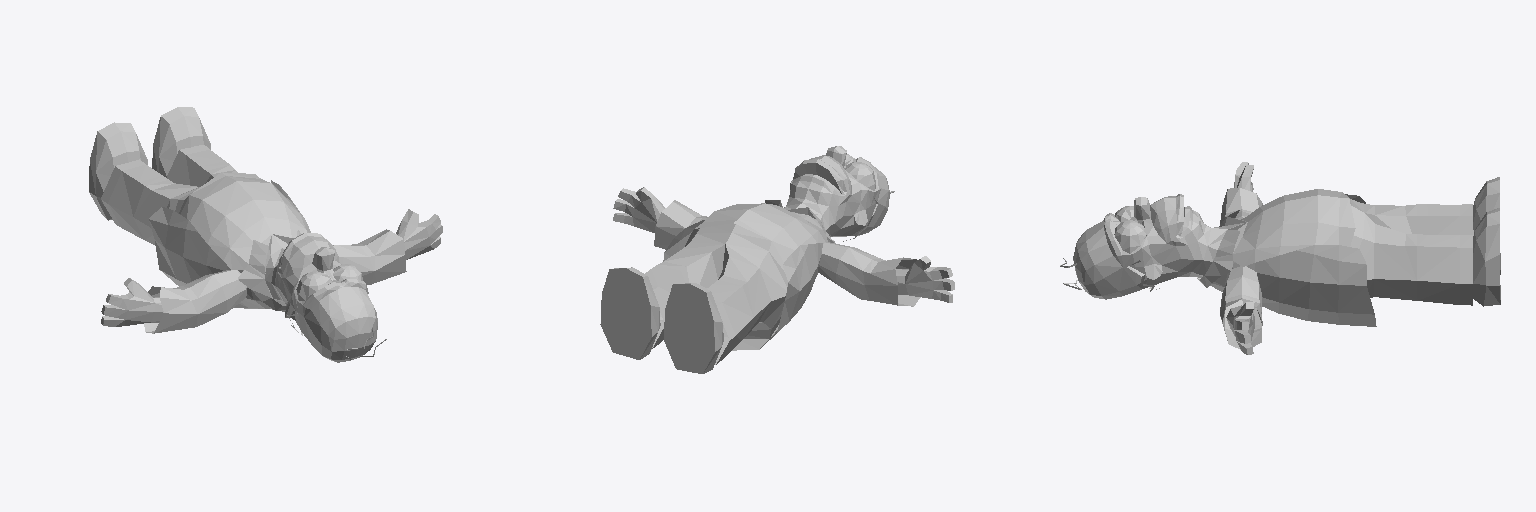
File: Homer (Scuzzy).obj
3 renders of one model, left to right at view 1: azimuth 30°, elevation 25°; view 2: azimuth 150°, elevation 25°; view 3: azimuth 270°, elevation 25°, orthographic.
Parts seen in each view (by area): view 1: Homer Scuzzy, Arm_Tears, Eyes; view 2: Homer Scuzzy, Eyes; view 3: Homer Scuzzy, Eyes, Arm_Tears.
Part boxes in pixels (left/top/right/bottom): Homer Scuzzy: left=89, top=107, right=442, bottom=362; Arm_Tears: left=190, top=245, right=373, bottom=324; Eyes: left=296, top=264, right=362, bottom=300; Homer Scuzzy: left=600, top=146, right=954, bottom=373; Eyes: left=819, top=155, right=875, bottom=190; Homer Scuzzy: left=1060, top=162, right=1500, bottom=354; Eyes: left=1114, top=206, right=1145, bottom=253; Arm_Tears: left=1220, top=211, right=1242, bottom=325.
Bounding box in the file's own units: 1.61 × 0.5514 × 1.81.